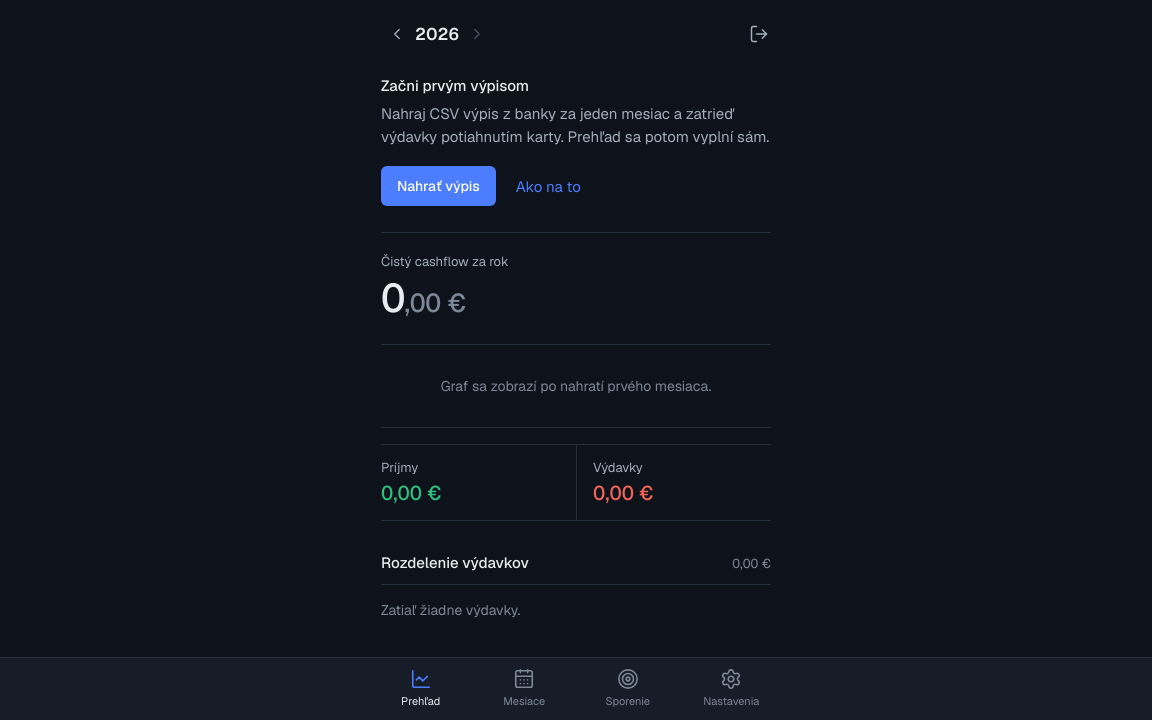
Scenario: zmaže účet až po napísaní ZMAZAŤ, odhlási a povie prečo
Expected: the text "Čistý cashflow za rok" is shown, [381, 253, 509, 270]
Step 1. Click the button "Nastavenia" → coordinates (731, 689), box [680, 658, 783, 719]
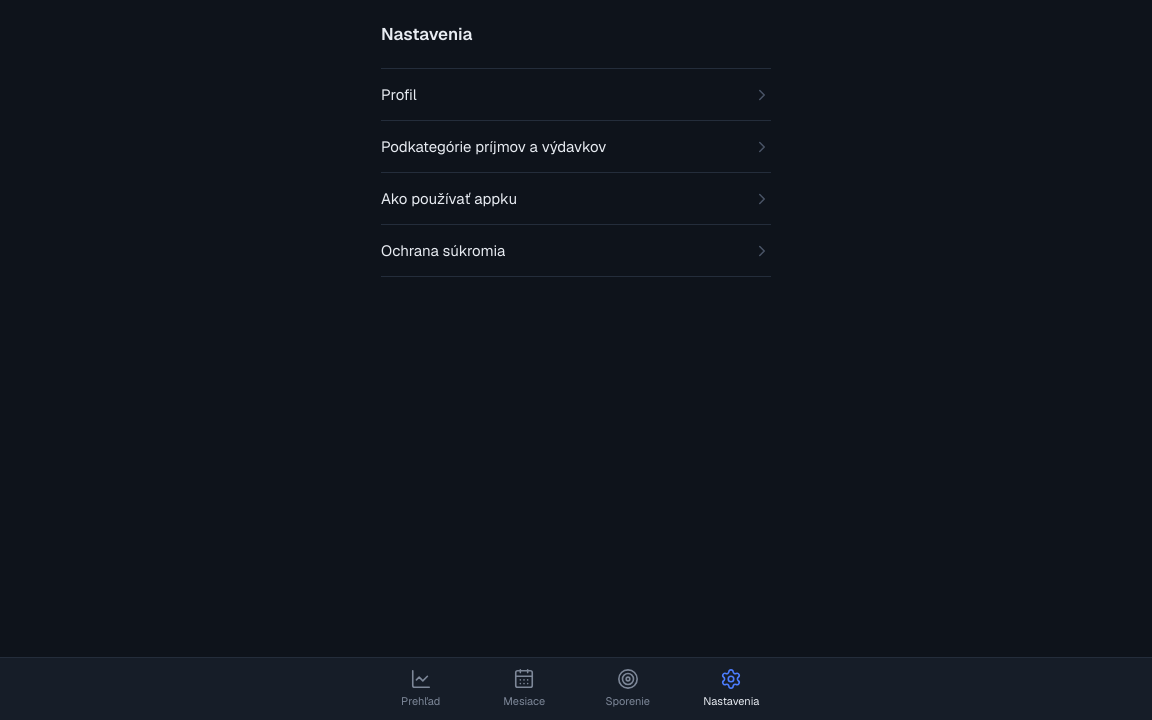
Step 2. Click the button "Profil" → coordinates (399, 94), box [381, 69, 771, 121]
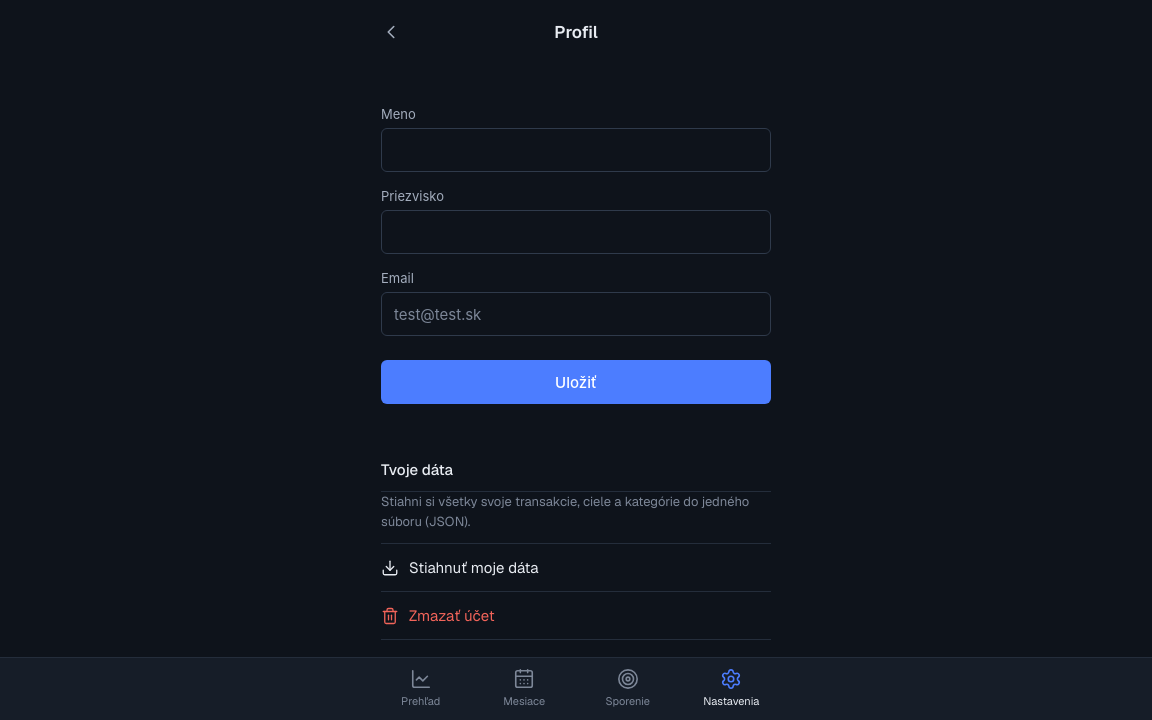
Step 3. Click the button "Zmazať účet" → coordinates (452, 616), box [381, 592, 771, 640]
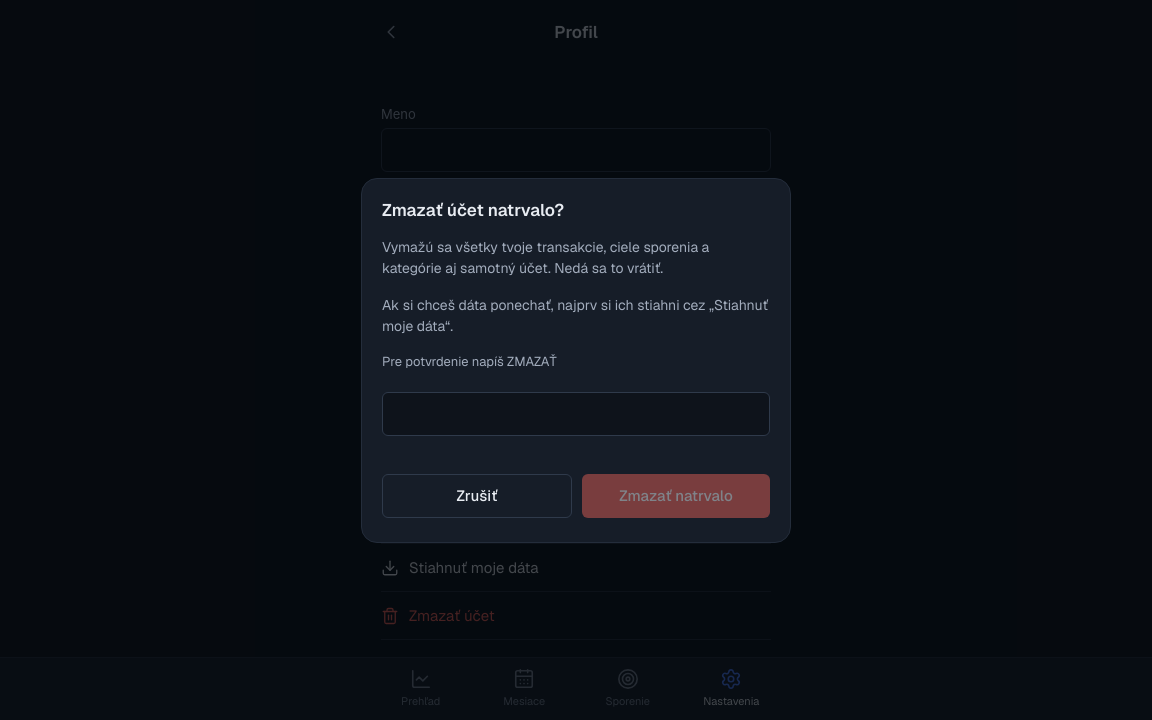
Now the button "Zmazať natrvalo" is disabled, box [582, 474, 770, 518]
Step 4. Type "zmazat" into the field labelled "Pre potvrdenie napíš ZMAZAŤ" → coordinates (576, 414), box [382, 392, 770, 436]
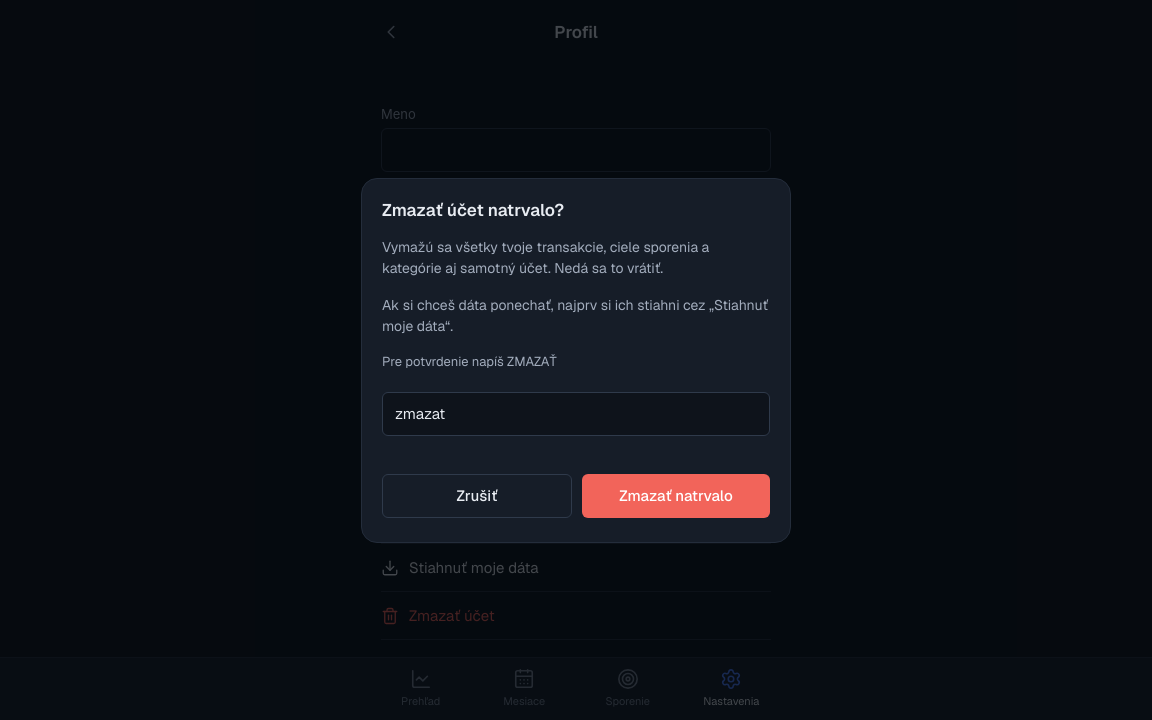
Now the button "Zmazať natrvalo" is enabled
Step 5. Click the button "Zmazať natrvalo" → coordinates (676, 496), box [582, 474, 770, 518]
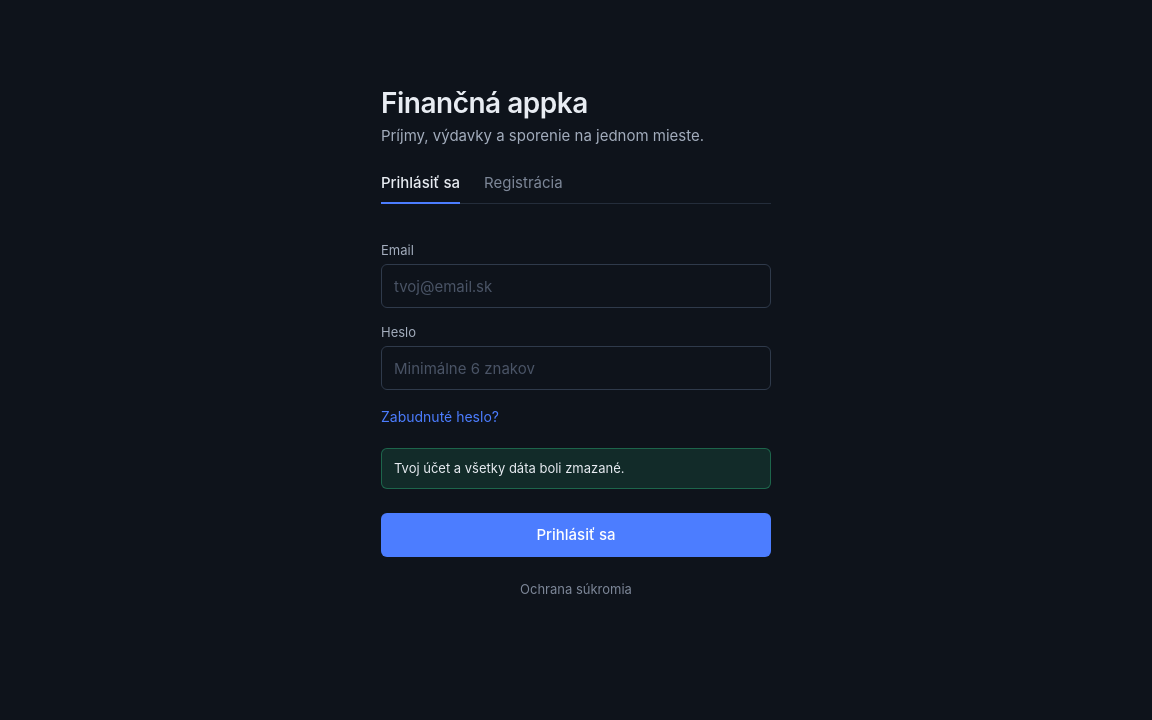
Now the text "Tvoj účet a všetky dáta boli zmazané." is shown, box [381, 448, 771, 489]
